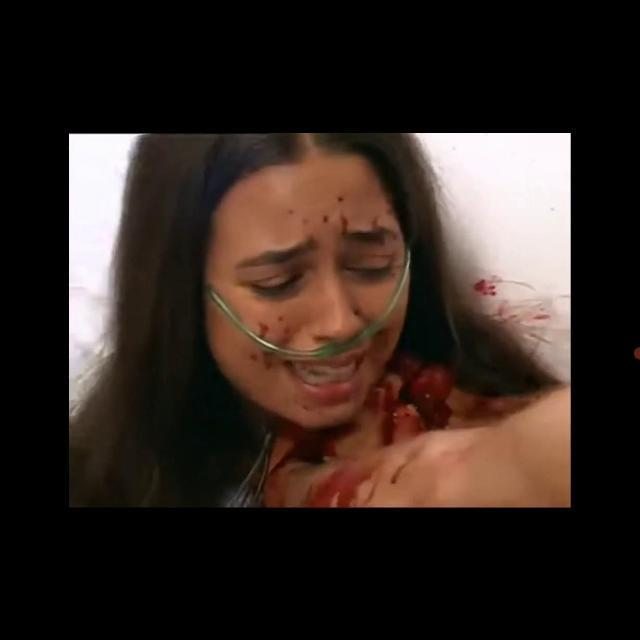blood: (232, 353, 454, 507), (281, 186, 405, 251), (475, 273, 553, 342), (251, 315, 295, 343), (248, 342, 285, 370)
